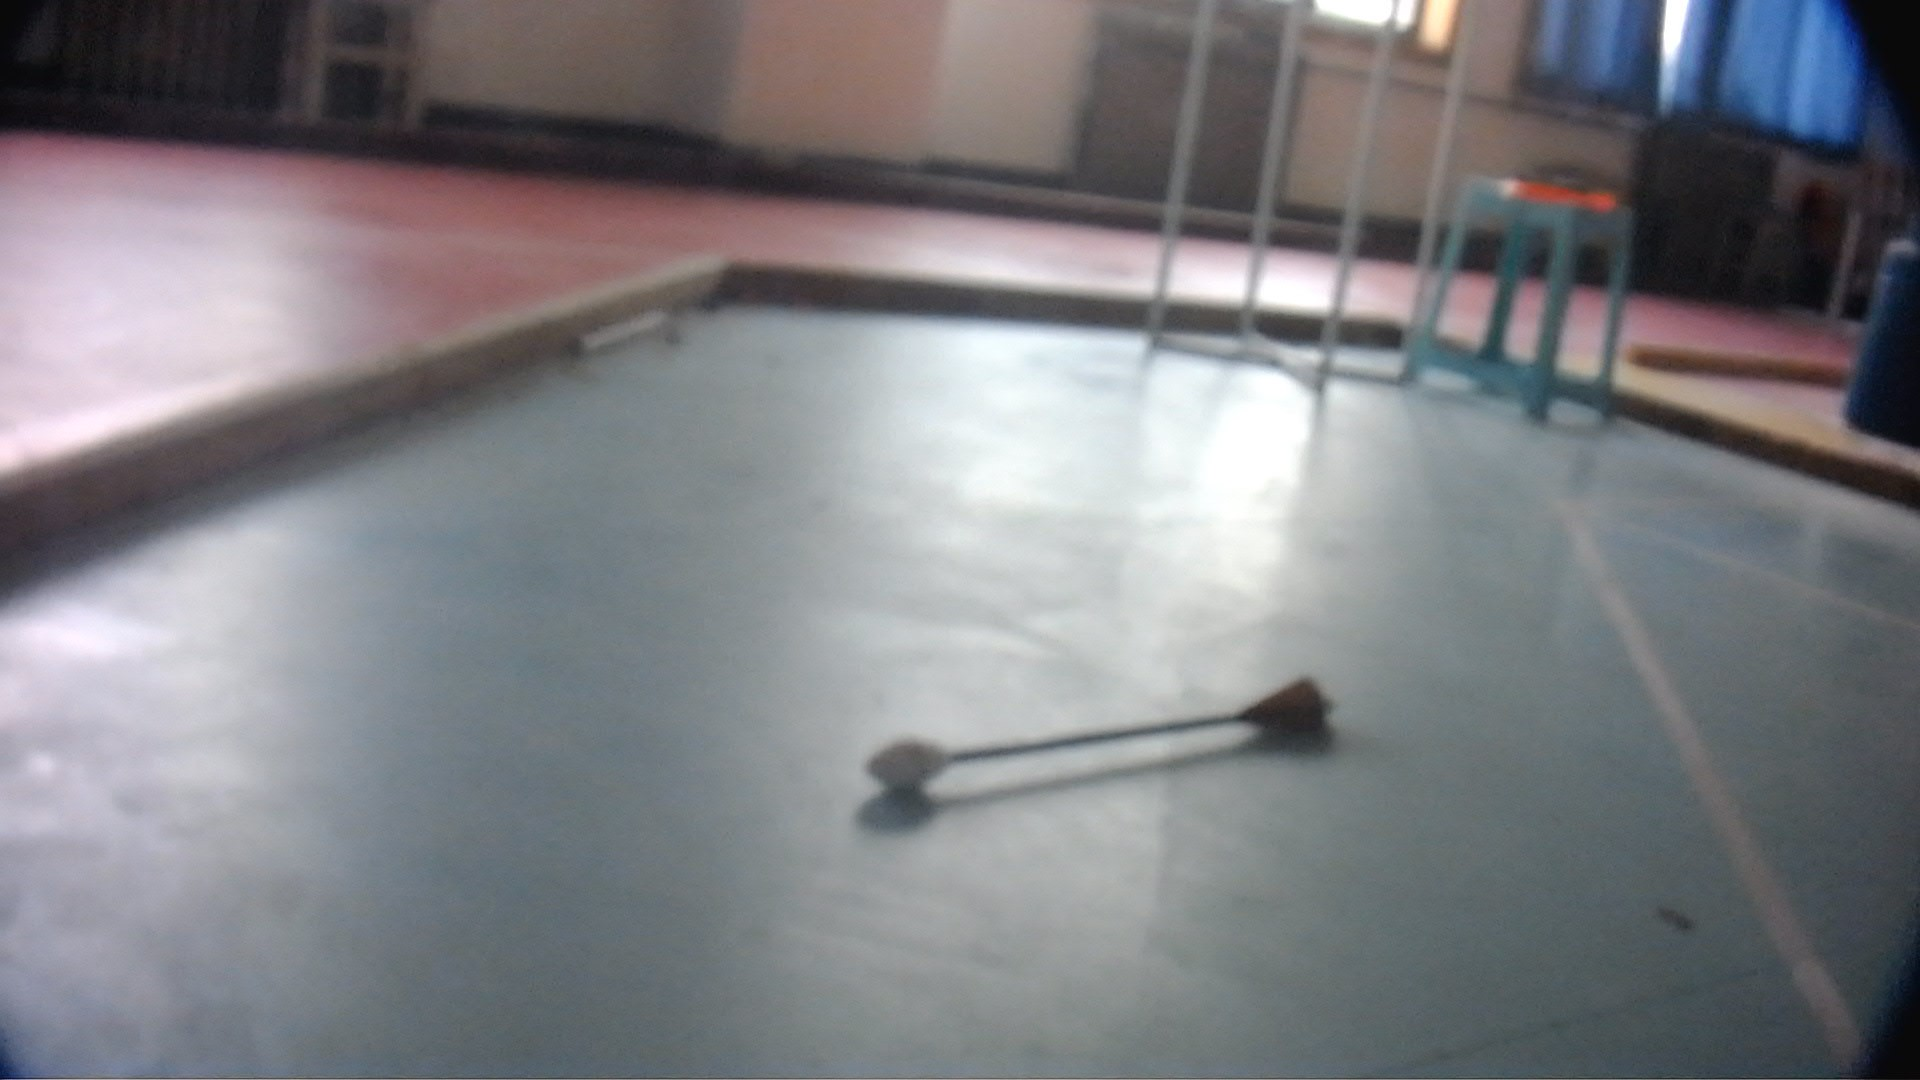arrow: (862, 680, 1340, 787)
arrowFront: (864, 736, 955, 789)
